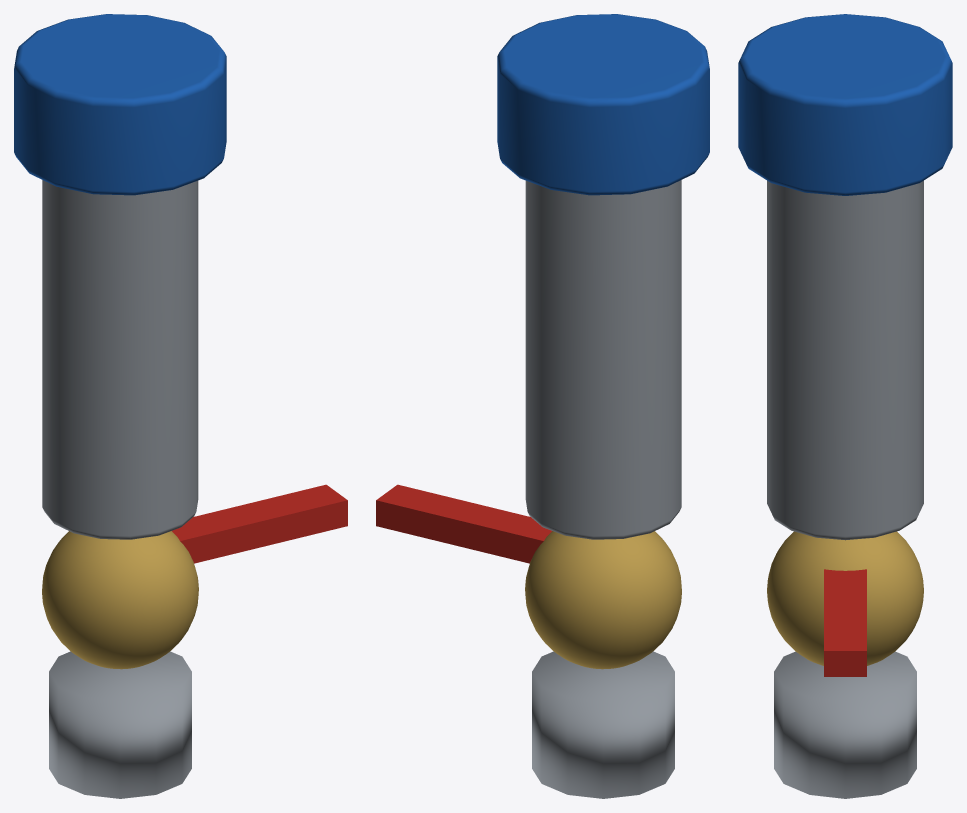
File: dev_pt.85307bb5.glb
3 views of the same model, side by side, from view 1: azimuth 30°, elevation 25°; view 2: azimuth 150°, elevation 25°; view 3: azimuth 270°, elevation 25° (orthographic).
Parts seen in each view (by area): view 1: Cylinder.001, Cylinder.002, Cylinder, Sphere, Cube; view 2: Cylinder.001, Cylinder.002, Cylinder, Sphere, Cube; view 3: Cylinder.001, Cylinder.002, Cylinder, Sphere, Cube.
Boxes of the visible parts, bbox=[...] form: Cylinder.001: bbox=[42, 180, 198, 539]; Cylinder.002: bbox=[14, 14, 226, 195]; Cylinder: bbox=[49, 651, 191, 798]; Sphere: bbox=[42, 531, 198, 669]; Cube: bbox=[172, 484, 347, 563]; Cylinder.001: bbox=[525, 180, 681, 539]; Cylinder.002: bbox=[497, 14, 709, 195]; Cylinder: bbox=[532, 651, 674, 798]; Sphere: bbox=[525, 531, 681, 669]; Cube: bbox=[376, 484, 551, 563]; Cylinder.001: bbox=[767, 180, 923, 540]; Cylinder.002: bbox=[738, 14, 952, 195]; Cylinder: bbox=[774, 651, 916, 798]; Sphere: bbox=[767, 531, 923, 665]; Cube: bbox=[824, 569, 866, 676].
Bounding box in the file's own units: 0.1 × 0.22 × 0.06.
